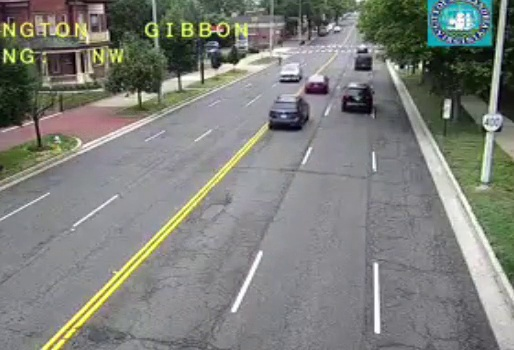car: (268, 96, 308, 128), (342, 83, 372, 109), (304, 74, 329, 94), (354, 54, 373, 72)
